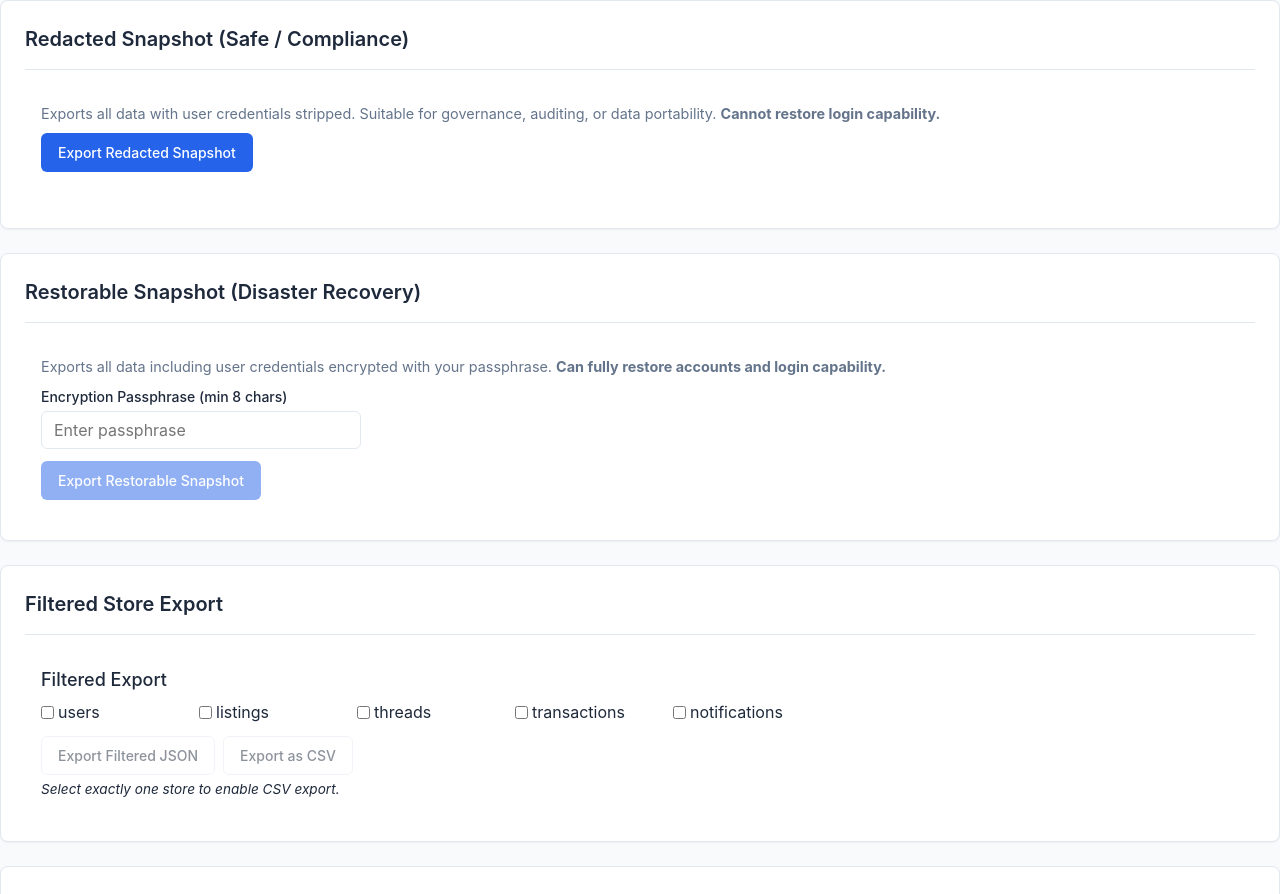
Test: AdminDataTab — Restorable Snapshot section › Export Restorable button is enabled when passphrase has exactly 8 characters
Step 1. Type "12345678" into the password field with placeholder "Enter passphrase" → (201, 430), box top-left (41, 411), bottom-right (361, 449)
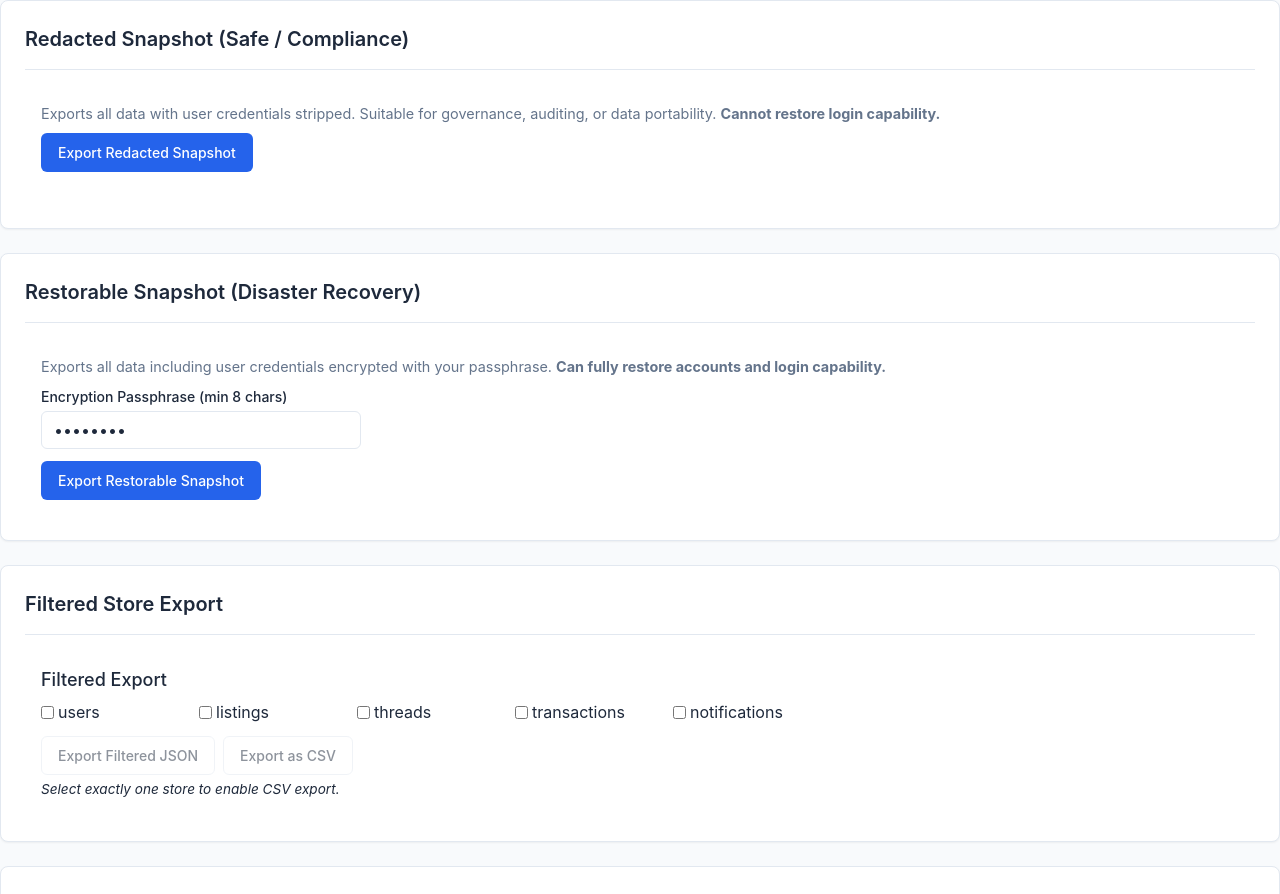
Result: the button "Export Restorable Snapshot" is enabled at top-left (41, 461), bottom-right (261, 500)
